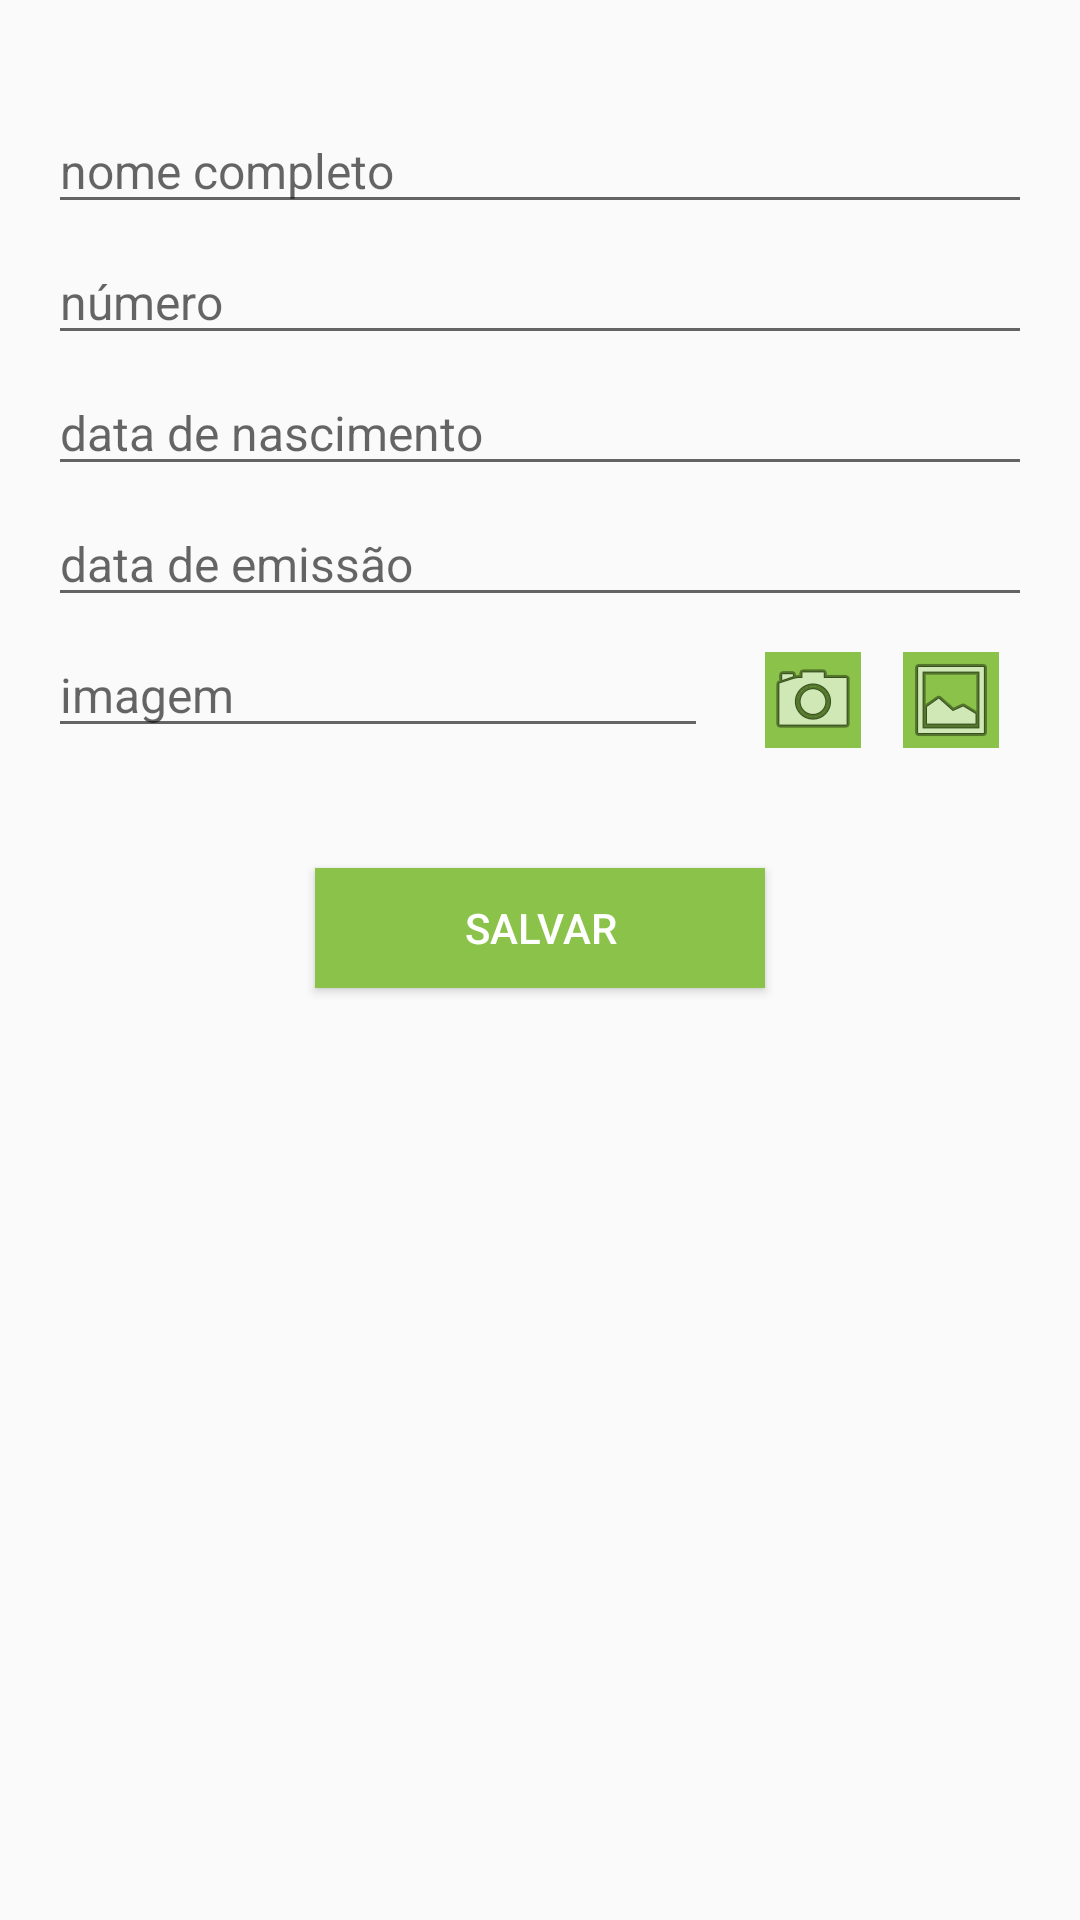

Locate icon controls on the screen. Image size 1080×1920, boxes as box(x1, y1, x2, y2).
camera: box(765, 652, 861, 748)
gallery: box(903, 652, 999, 748)
